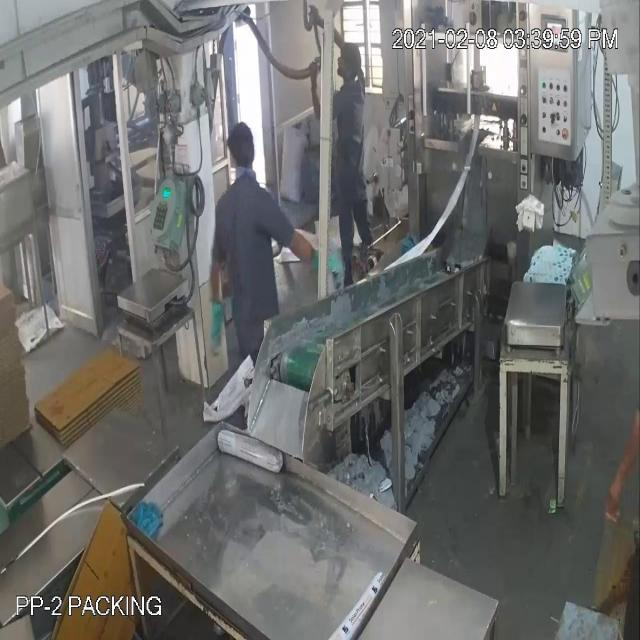Gloves: (28, 66, 315, 309)
